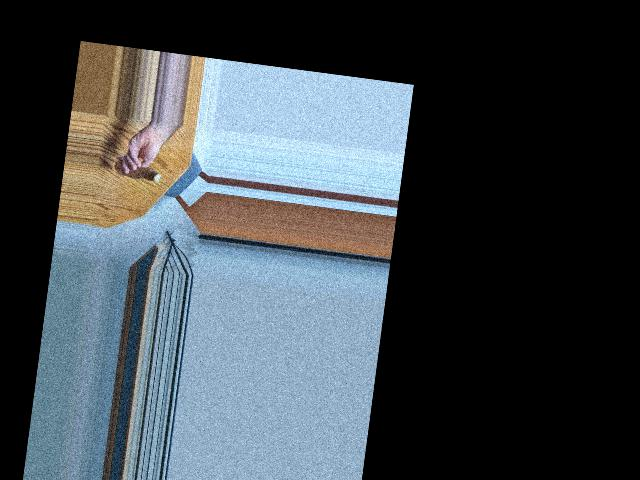sweet_potato: (114, 157, 164, 184)
